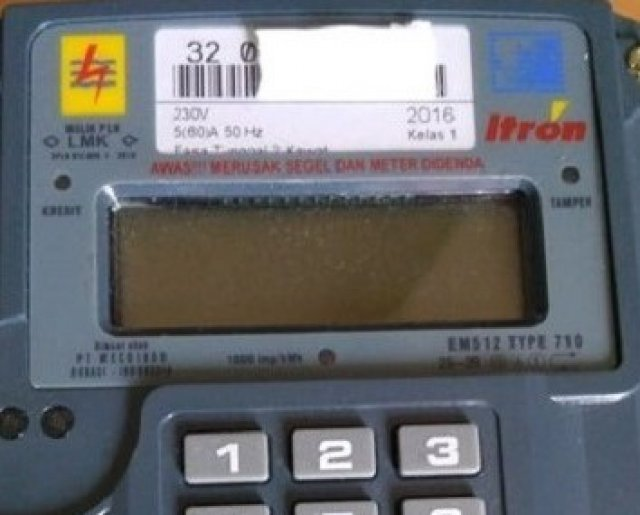box: (108, 193, 536, 329)
